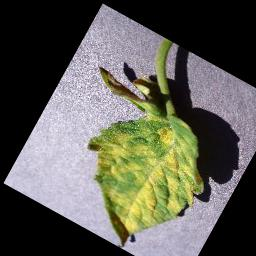Leaf_Mold: (27, 65, 233, 256)
